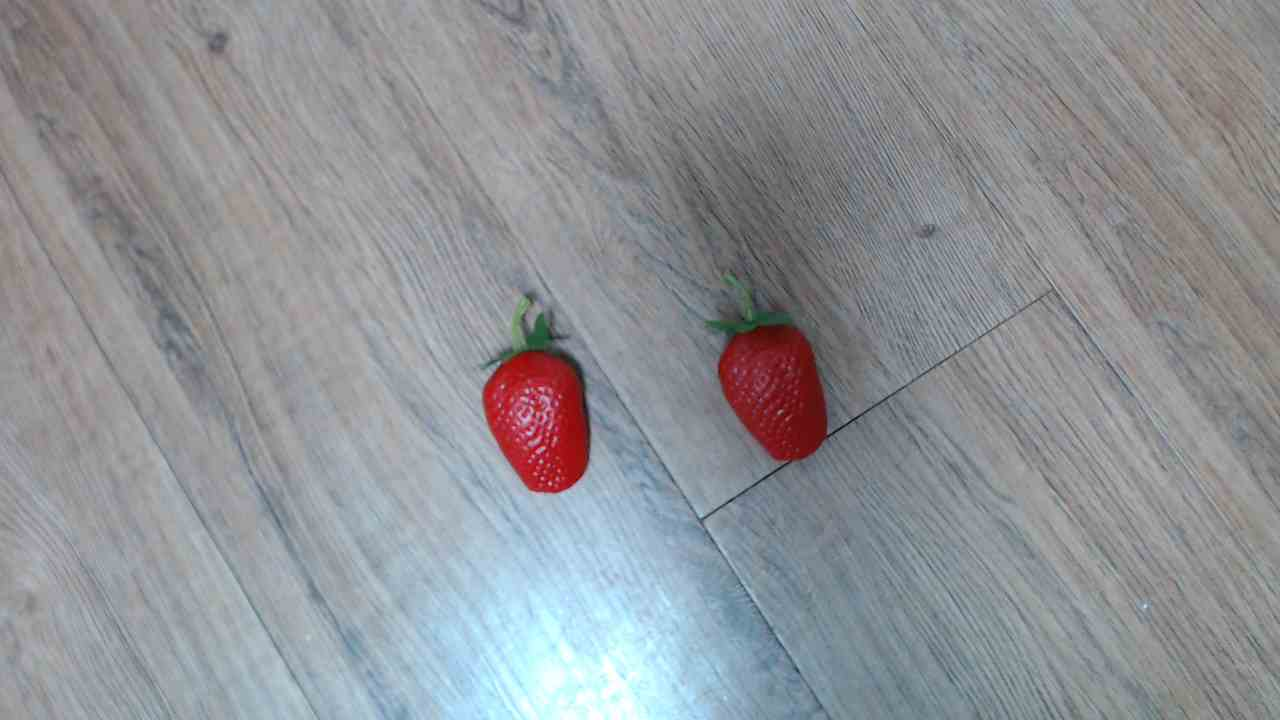strawberry: (701, 290, 840, 466), (467, 333, 602, 500)
